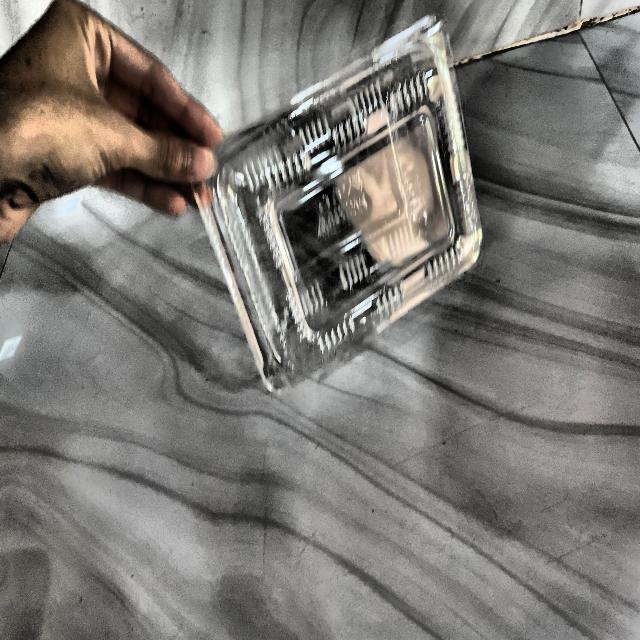plastic container: (209, 34, 479, 371)
